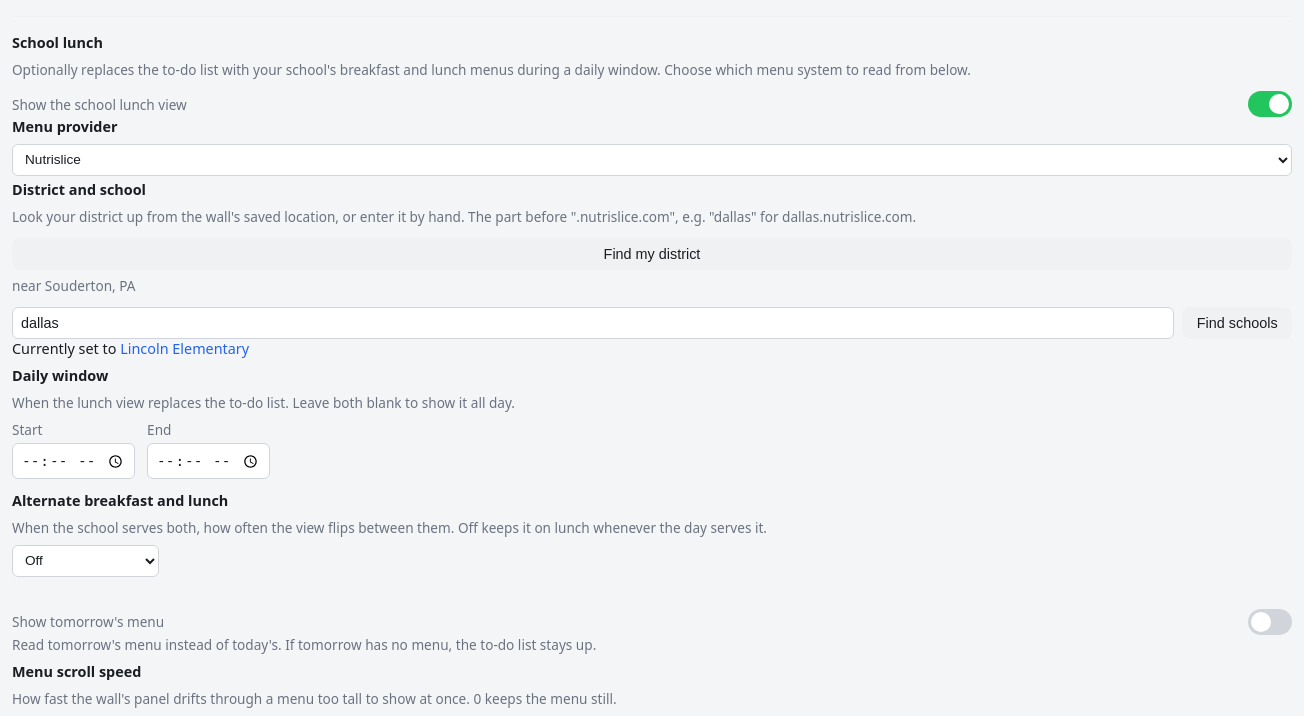
SchoolLunchSettings › finding a district from the location › says so when the location resolves but no district does
Click the button "Find my district".
click(652, 254)  # box [12,238,1292,270]
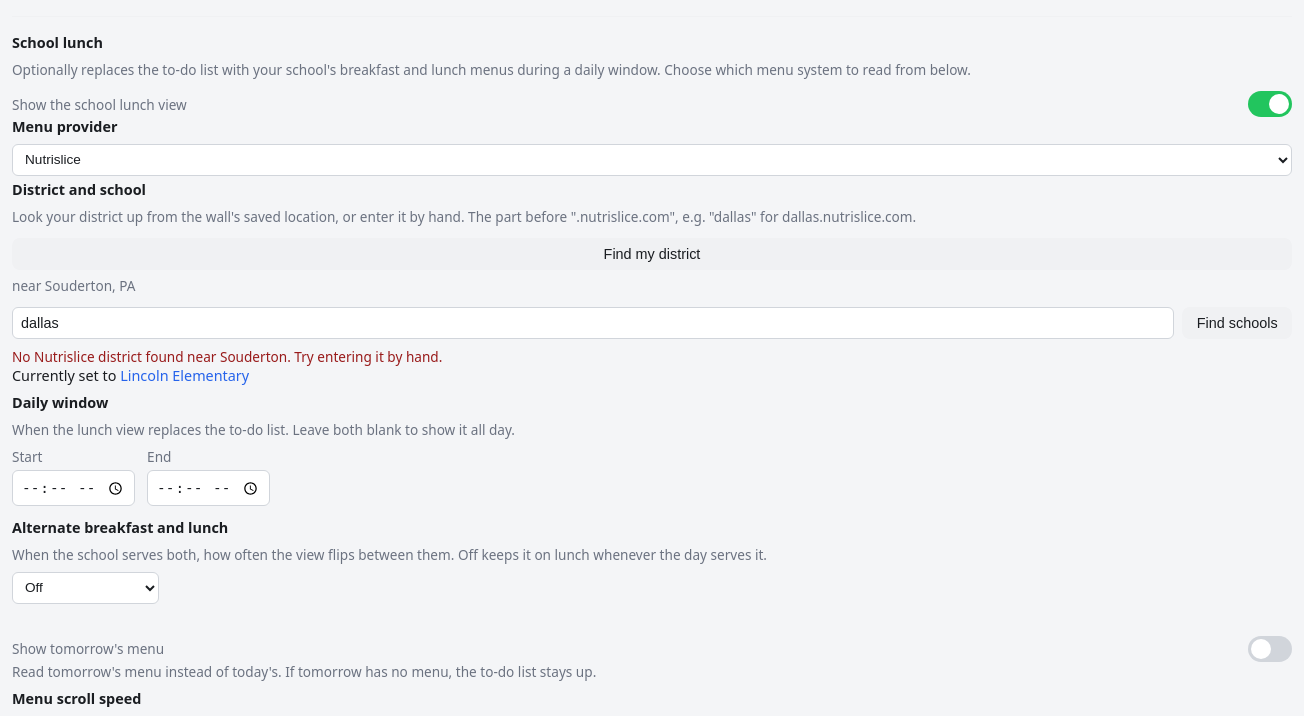
Result: the text "No Nutrislice district found near Souderton. Try entering it by hand." is shown at [12,347,442,366]
